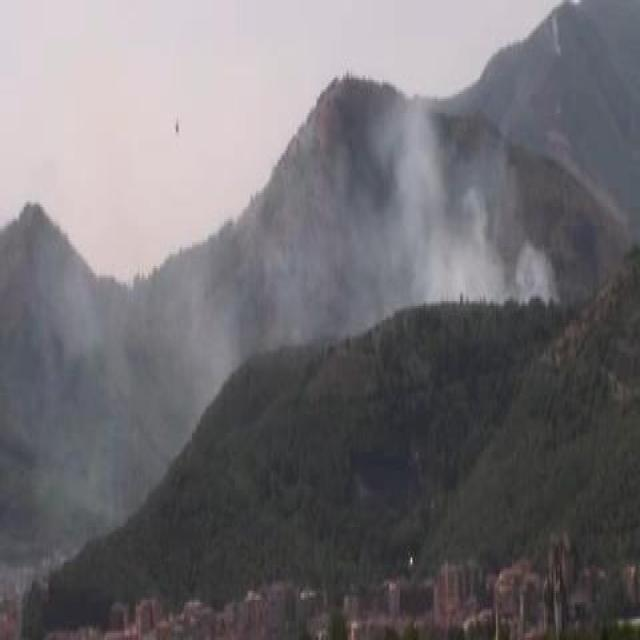Smoke: (329, 90, 560, 302), (44, 249, 235, 407)
